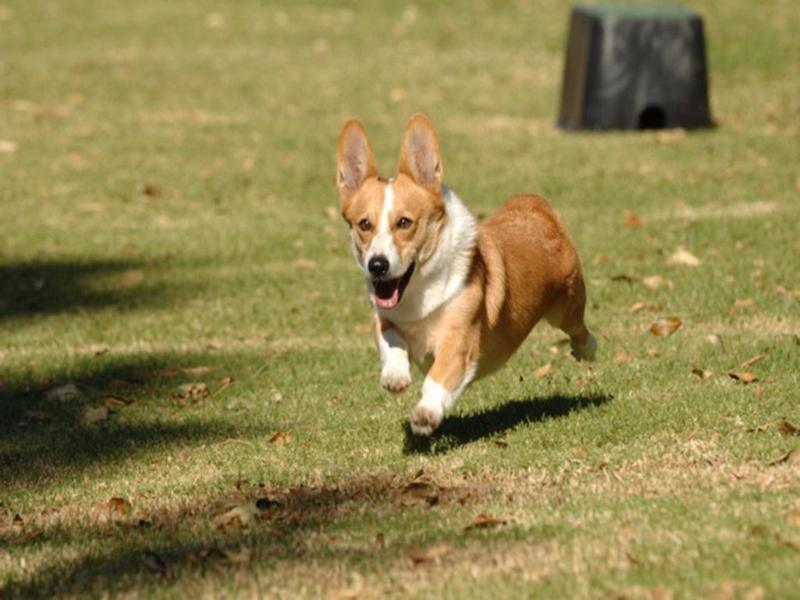corgi: (339, 112, 445, 308)
